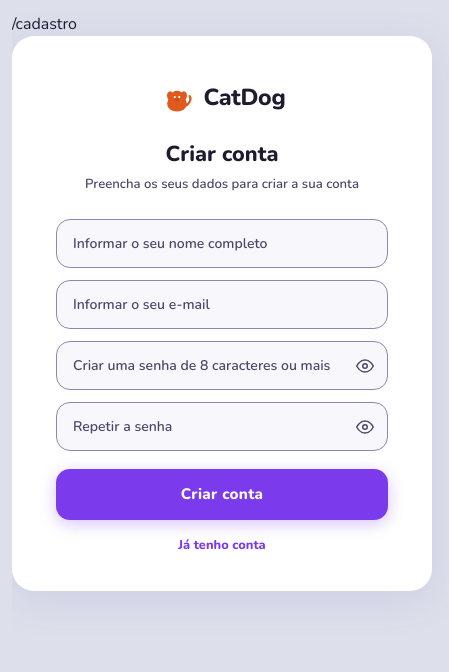
Test case: RegisterPage — falhas da API › erro que NAO e ApiError cai na mensagem generica
In the field labelled "nome completo": [222, 244] box [56,219,388,268], type "Caio Cliente"
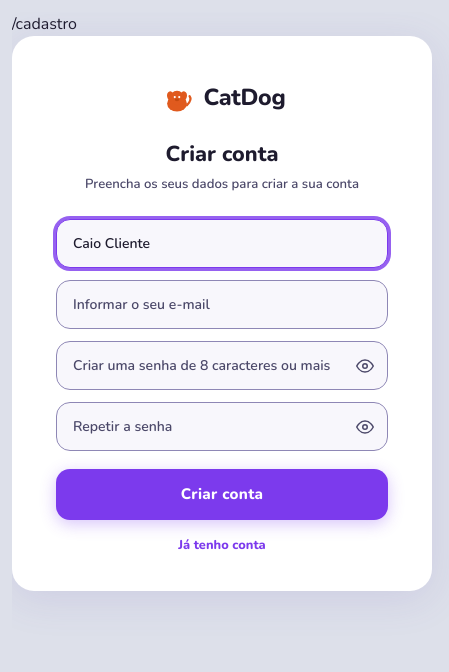
In the field labelled "e-mail": [222, 305] box [56,280,388,329], type "pessoa@catdog.test"
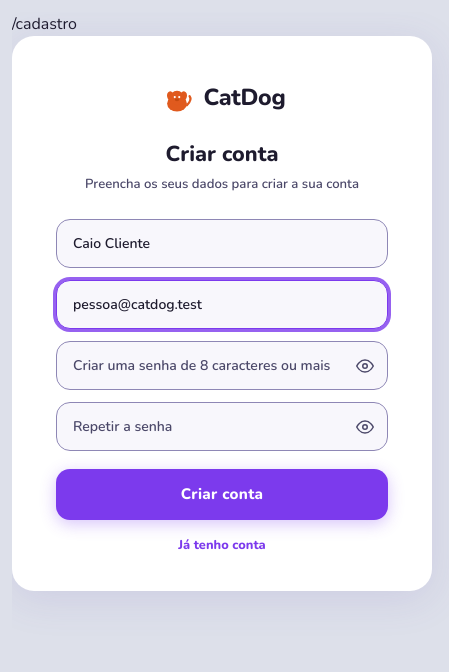
In the password field labelled "senha": [222, 366] box [56,341,388,390], type "Abc12345"
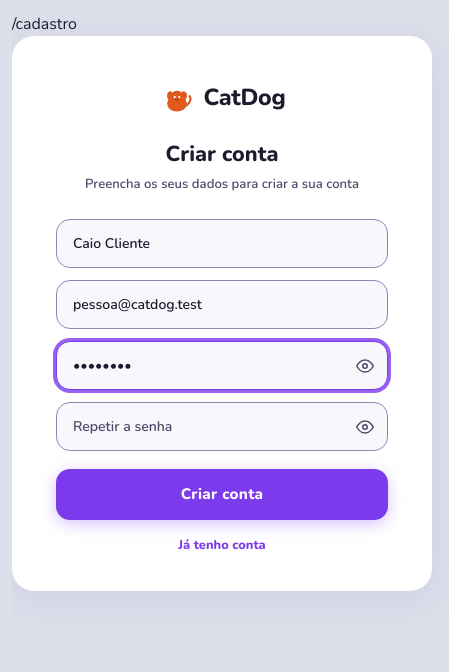
In the password field named "Confirmação de senha": [222, 427] box [56,402,388,451], type "Abc12345"
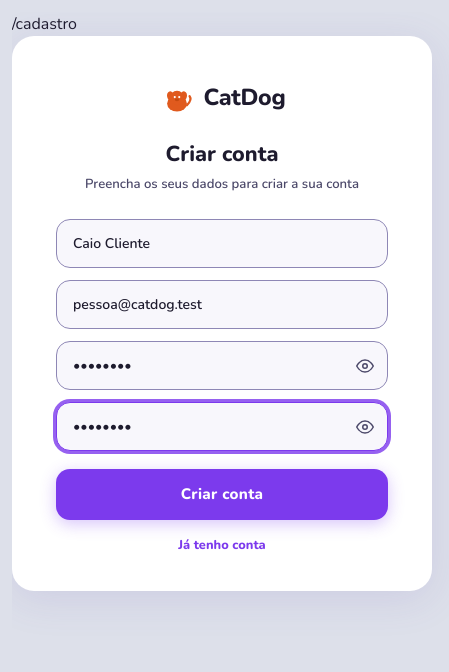
Click the button "Criar conta": [222, 494] box [56,469,388,520]
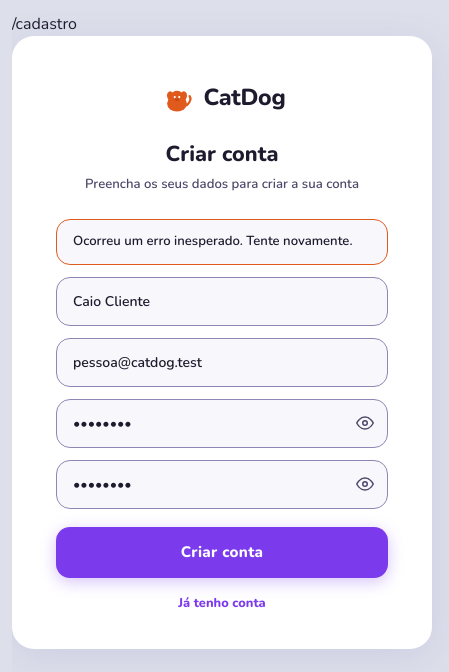
Check: the message reads "Ocorreu um erro inesperado. Tente novamente.", box [73,232,352,250]
